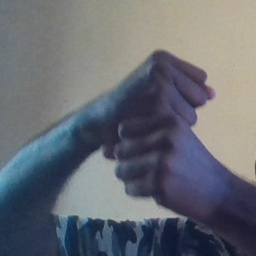G: (107, 45, 221, 209)
